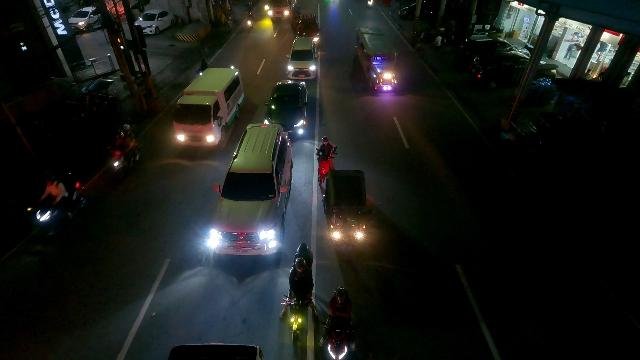car: (206, 123, 293, 261), (264, 80, 308, 136), (288, 37, 318, 81)
jeepney: (354, 25, 400, 95)
motorcycle: (34, 172, 84, 233), (321, 284, 358, 360), (105, 122, 140, 176), (314, 133, 338, 187), (298, 14, 321, 45)
van: (171, 67, 244, 153)
